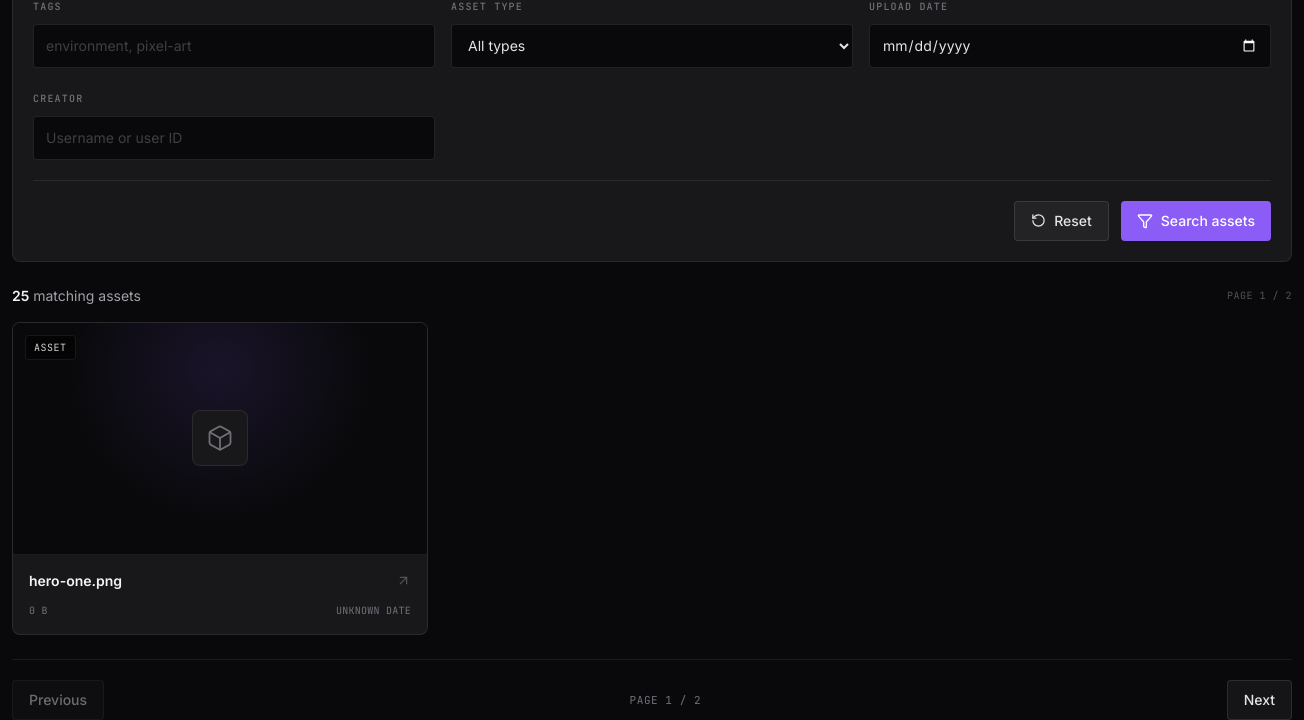
Test: requests and displays subsequent search result pages with the active filters
(page scrolled)
Expected: the heading "hero-one.png" is shown, left=29, top=572, right=122, bottom=589
Click the button "Next": (1259, 700) left=1227, top=680, right=1292, bottom=719
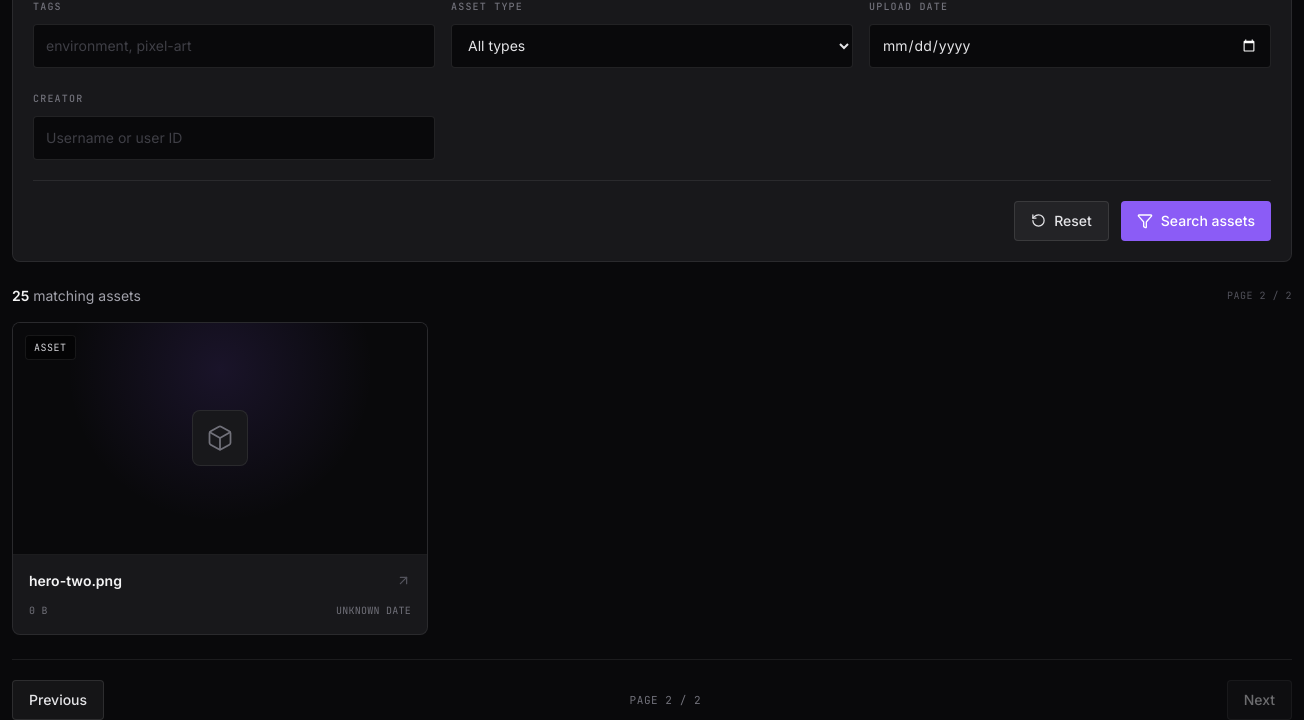
Result: the heading "hero-two.png" is shown at left=29, top=572, right=122, bottom=589
Result: the button "Next" is disabled at left=1227, top=680, right=1292, bottom=719
